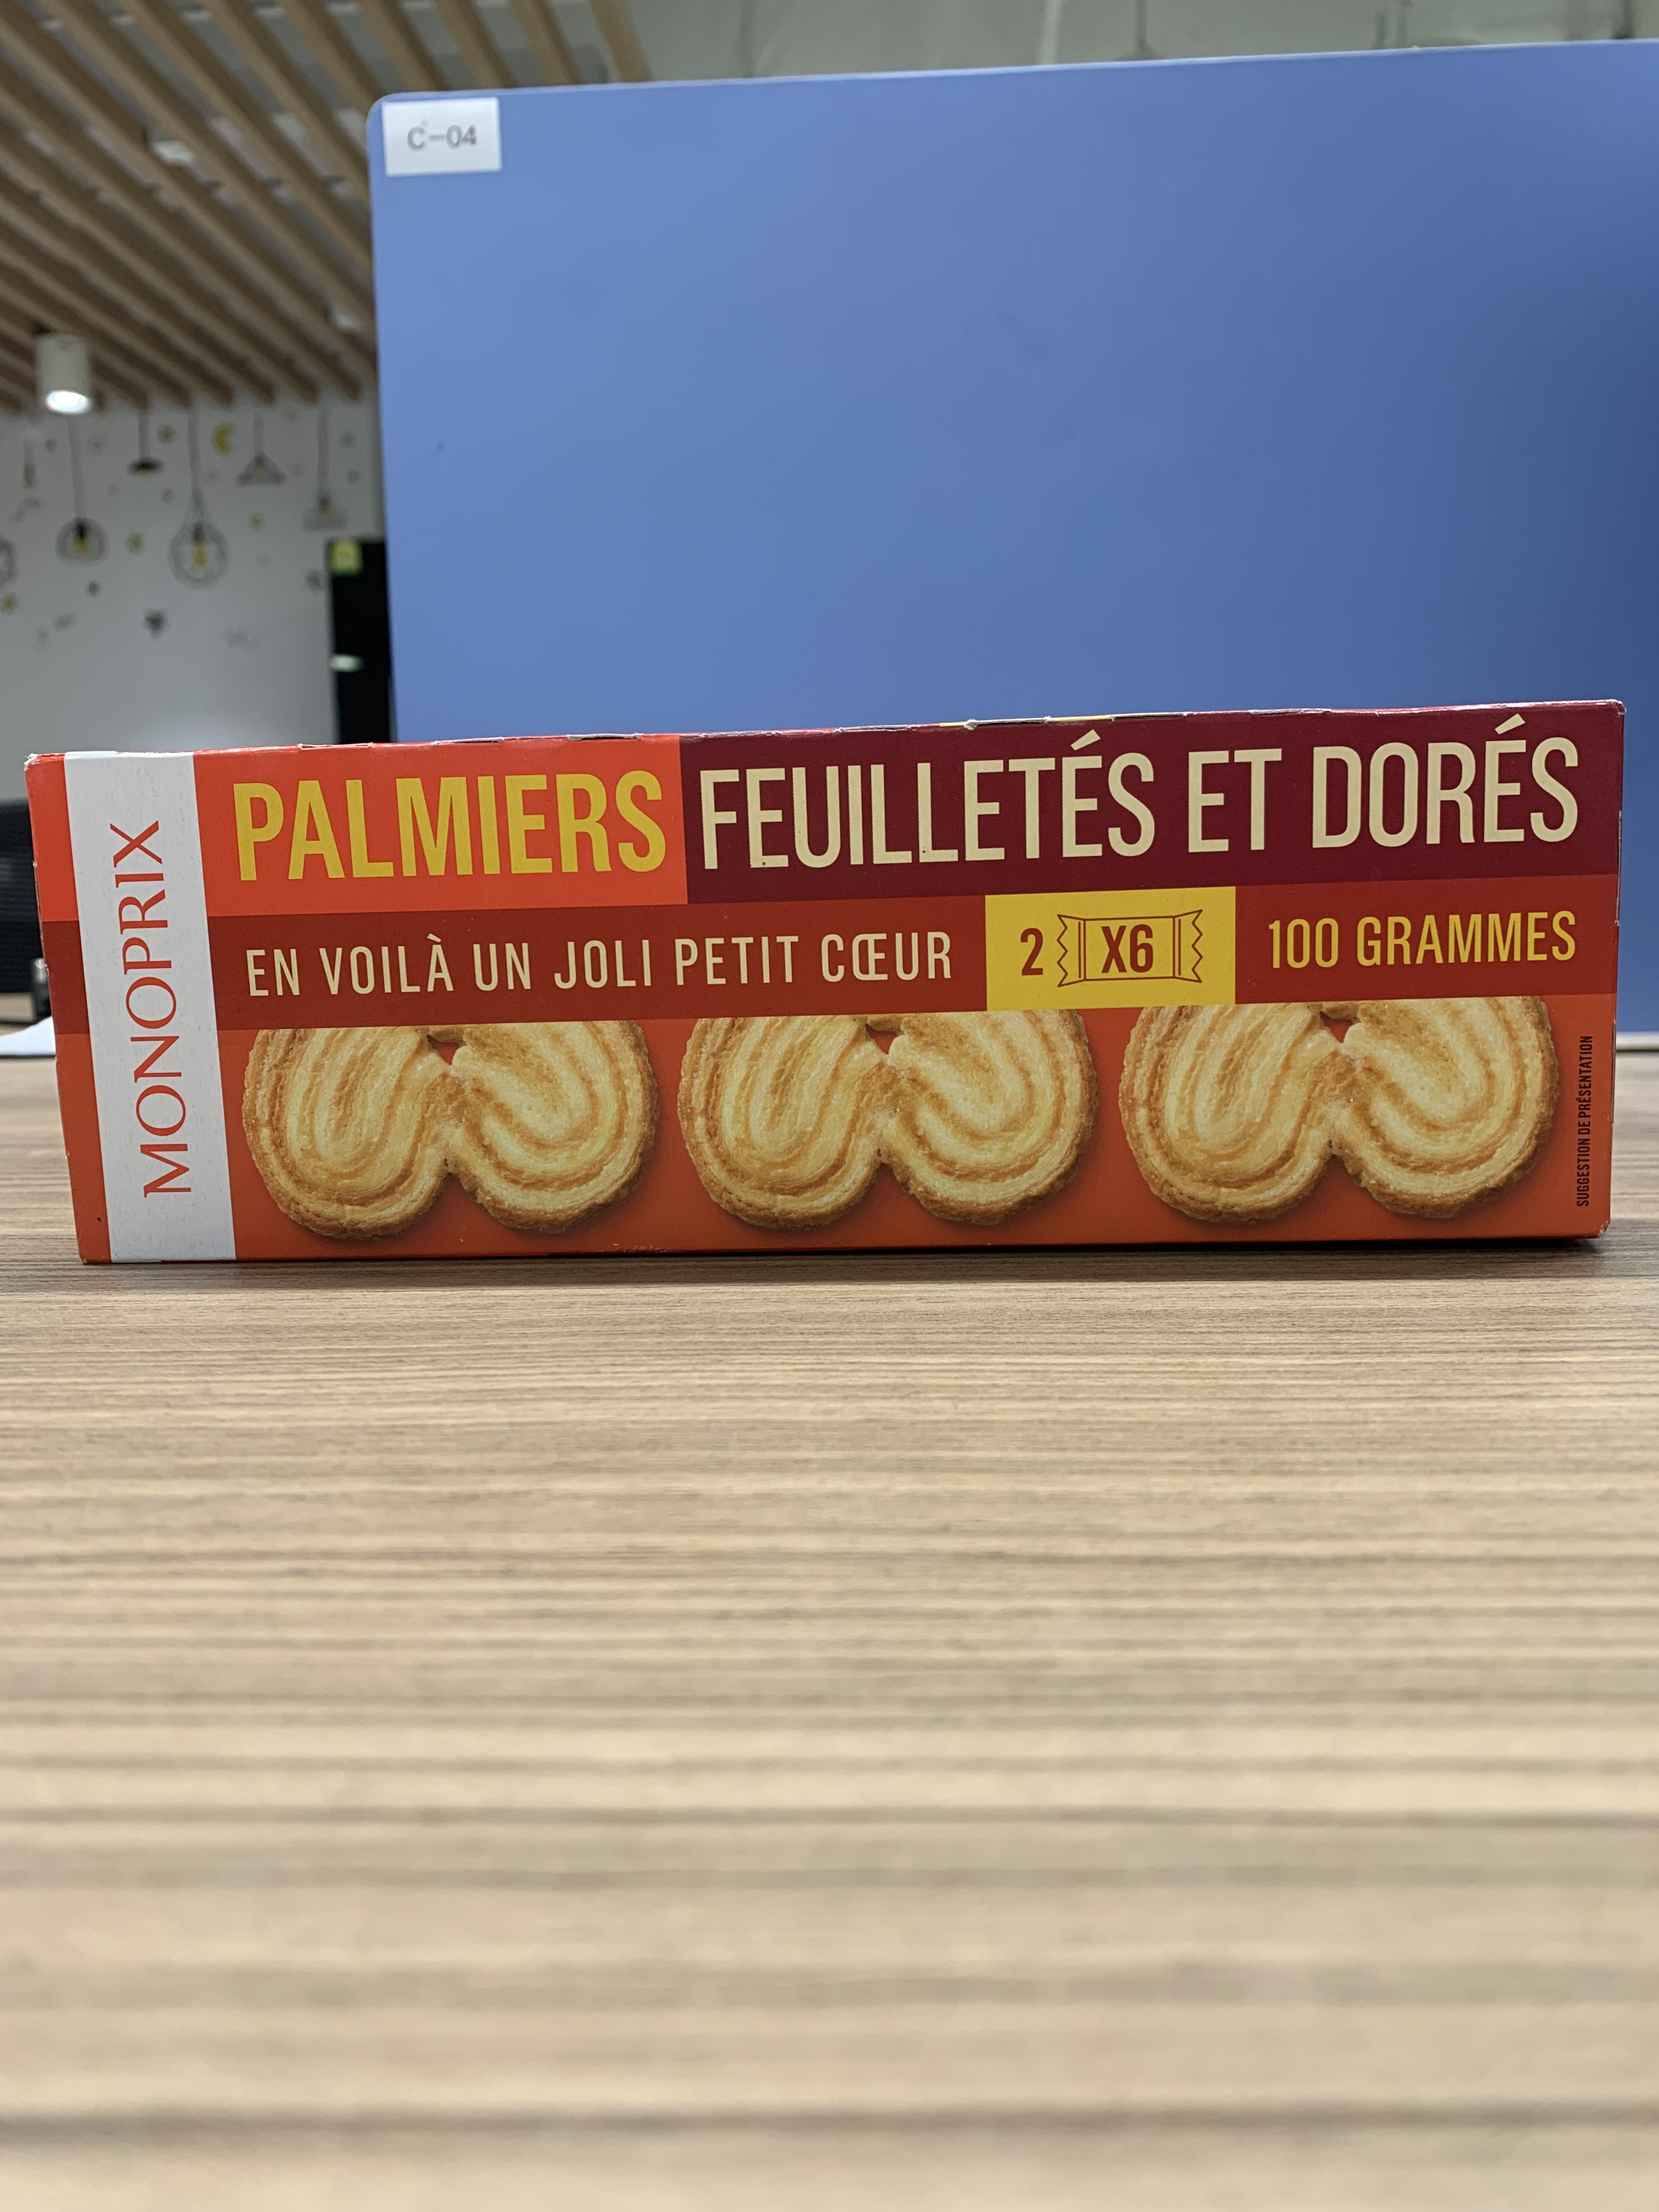cookies_100g-199g: (73, 735, 1603, 1230)
